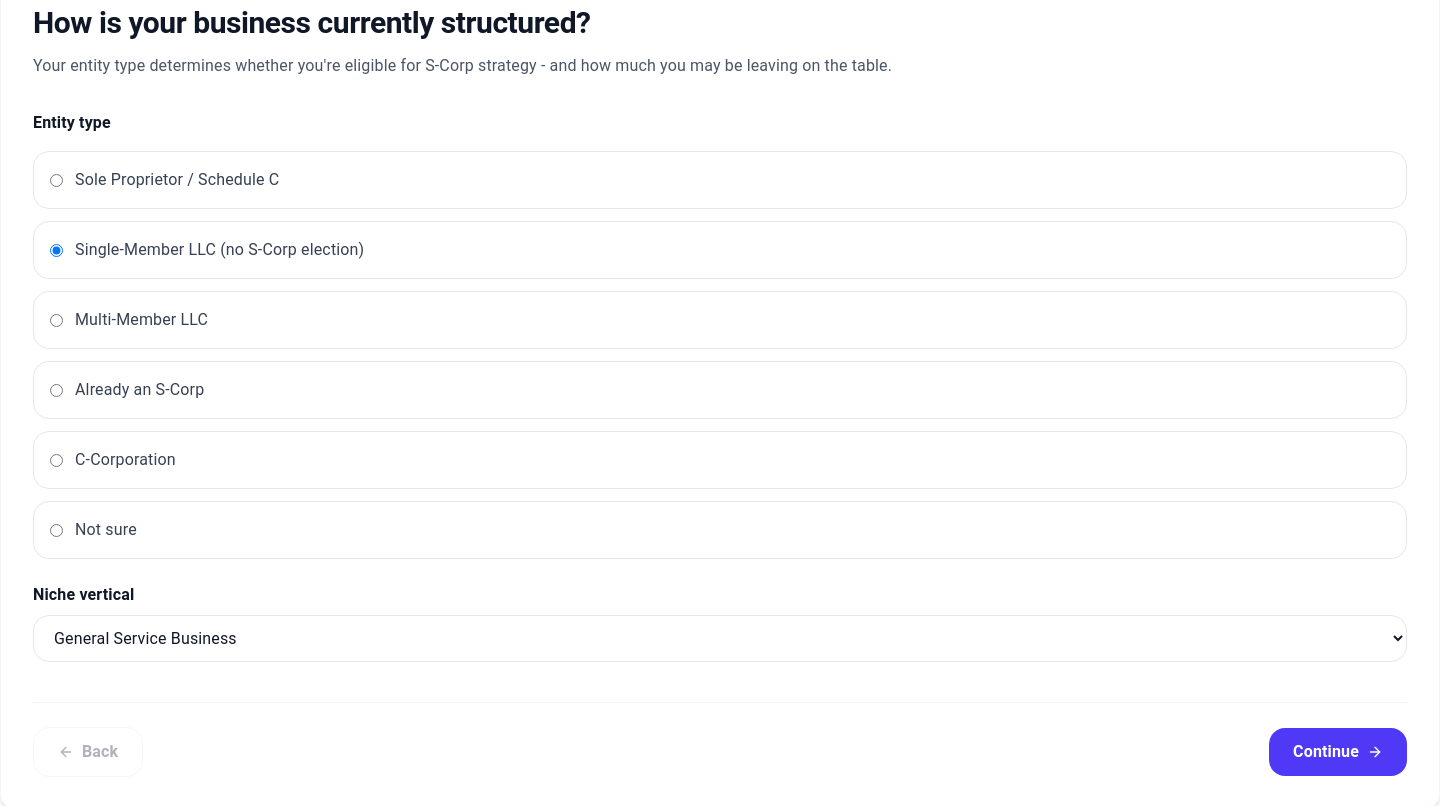
Test: SavingsEstimatorForm › keeps an out-of-range profit on the financial step with an actionable error
(page scrolled)
Click the button "Continue". click: (1338, 752)
box: 1269,728 -> 1407,776
(page scrolled)
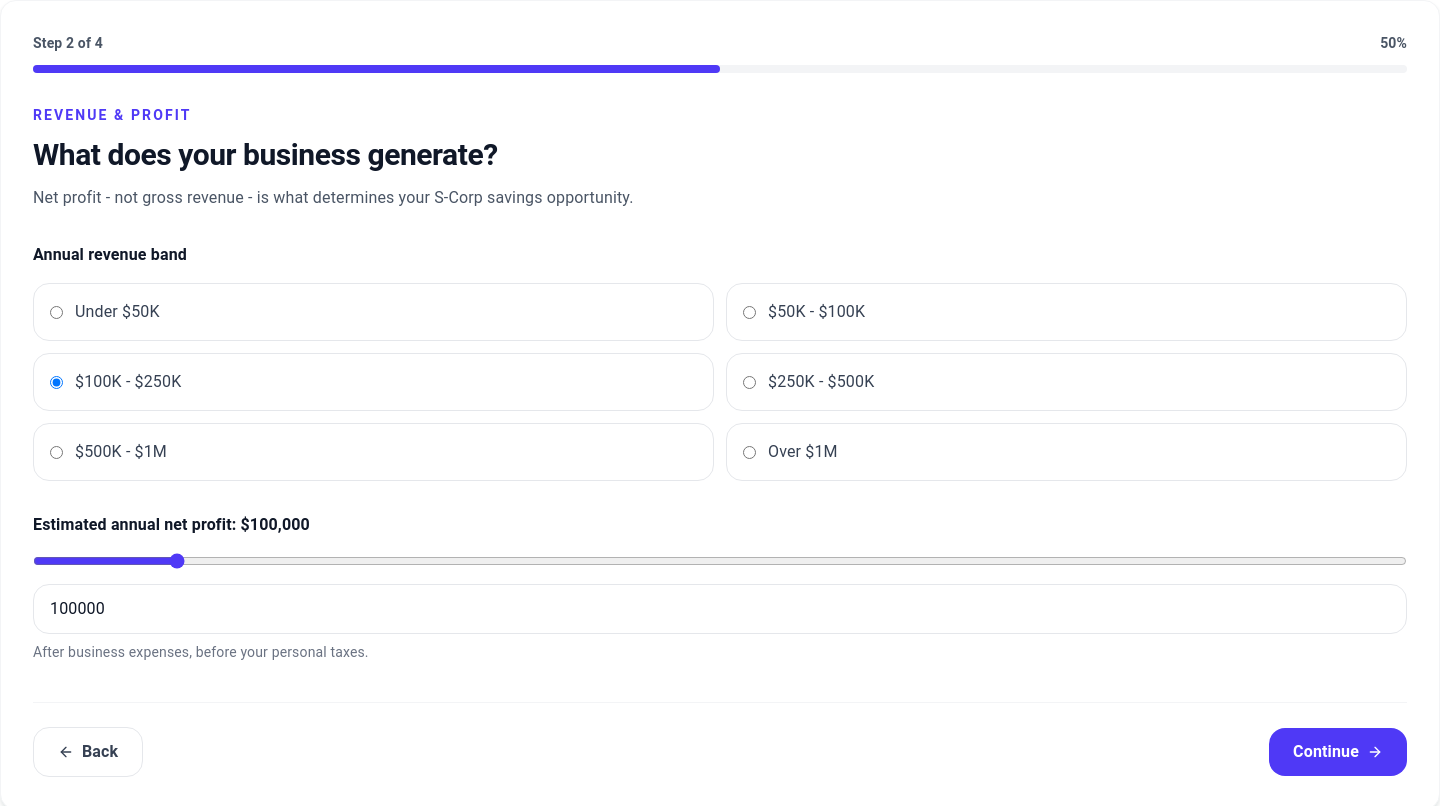
Replace the text in the number field named "Estimated annual net profit as a number" with "1000001". click: (720, 609)
box: 33,584 -> 1407,634
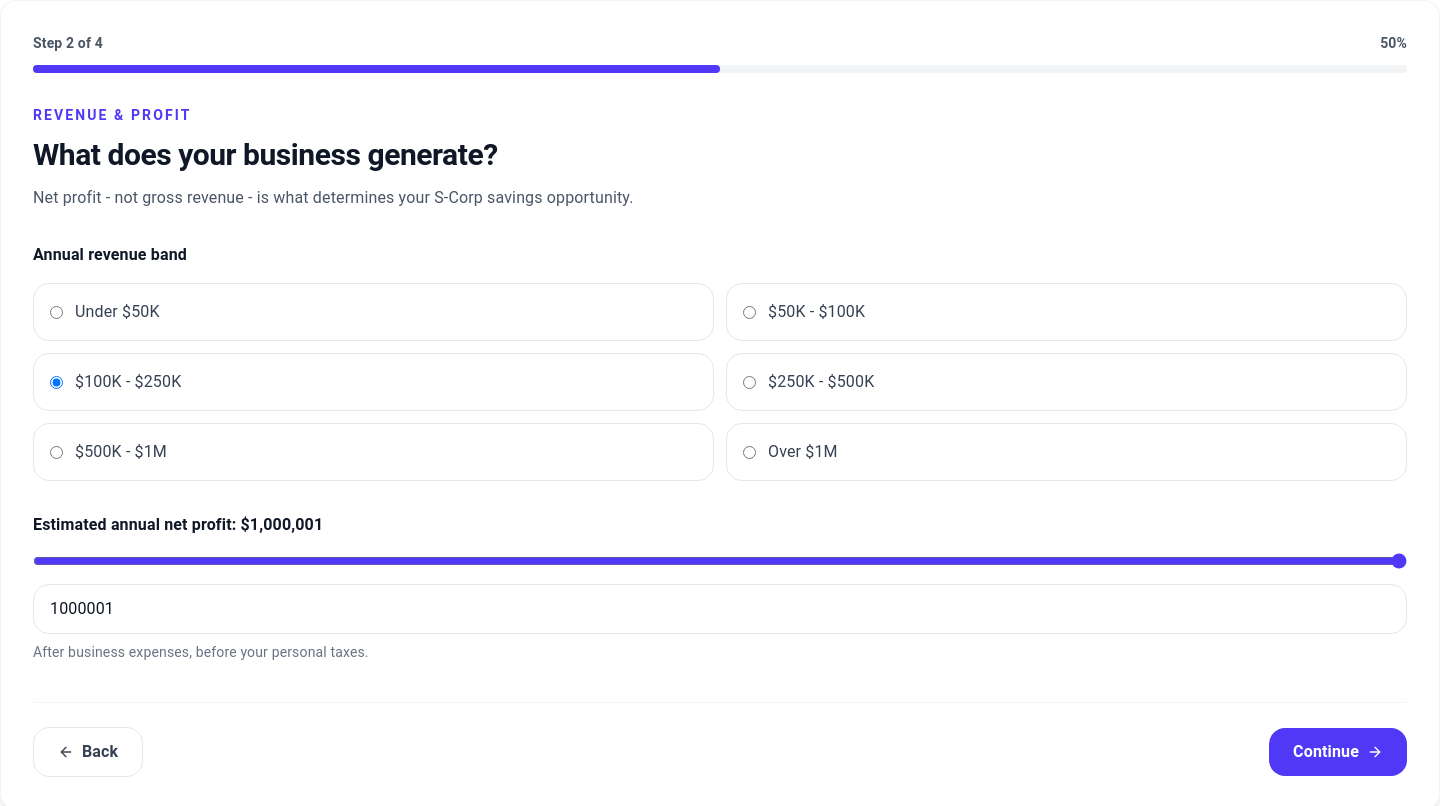
Click the button "Continue". click: (1338, 752)
box: 1269,728 -> 1407,776
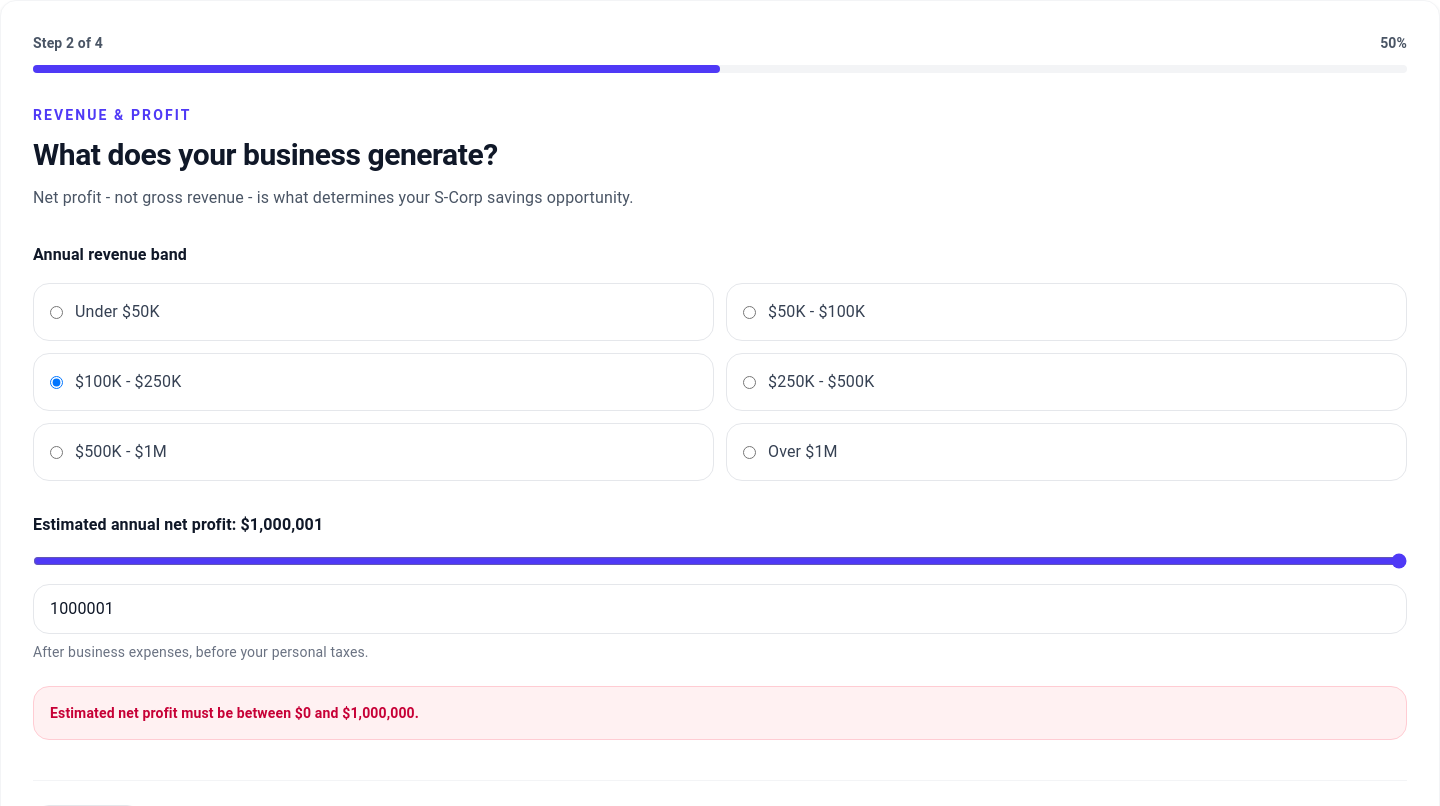
Now the text "Revenue & Profit" is shown, box 33,107 -> 192,123
Now the text "Estimated net profit must be between $0 and $1,000,000." is shown, box 33,686 -> 1407,740
